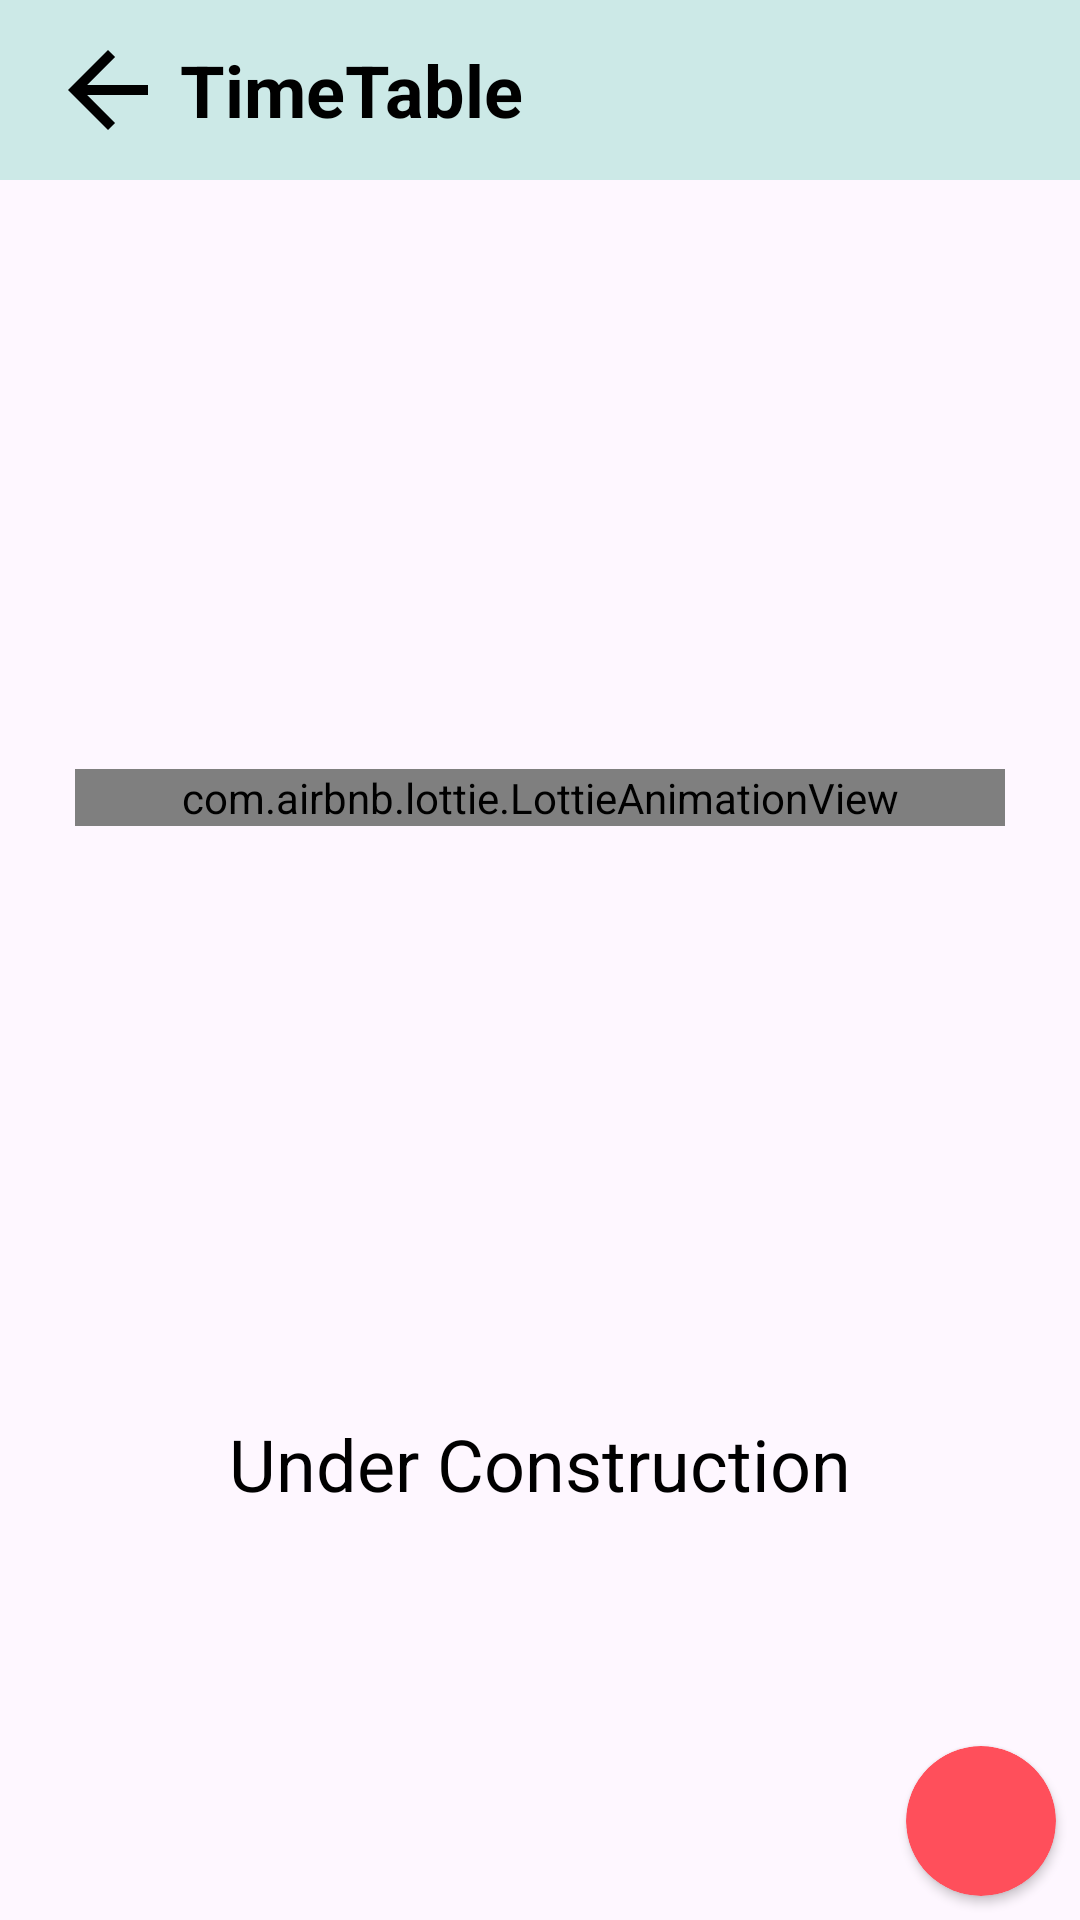

Icon click points for this 1080px×1920px phone screenshot, format point (x, y):
arrow back: point (108, 90)
